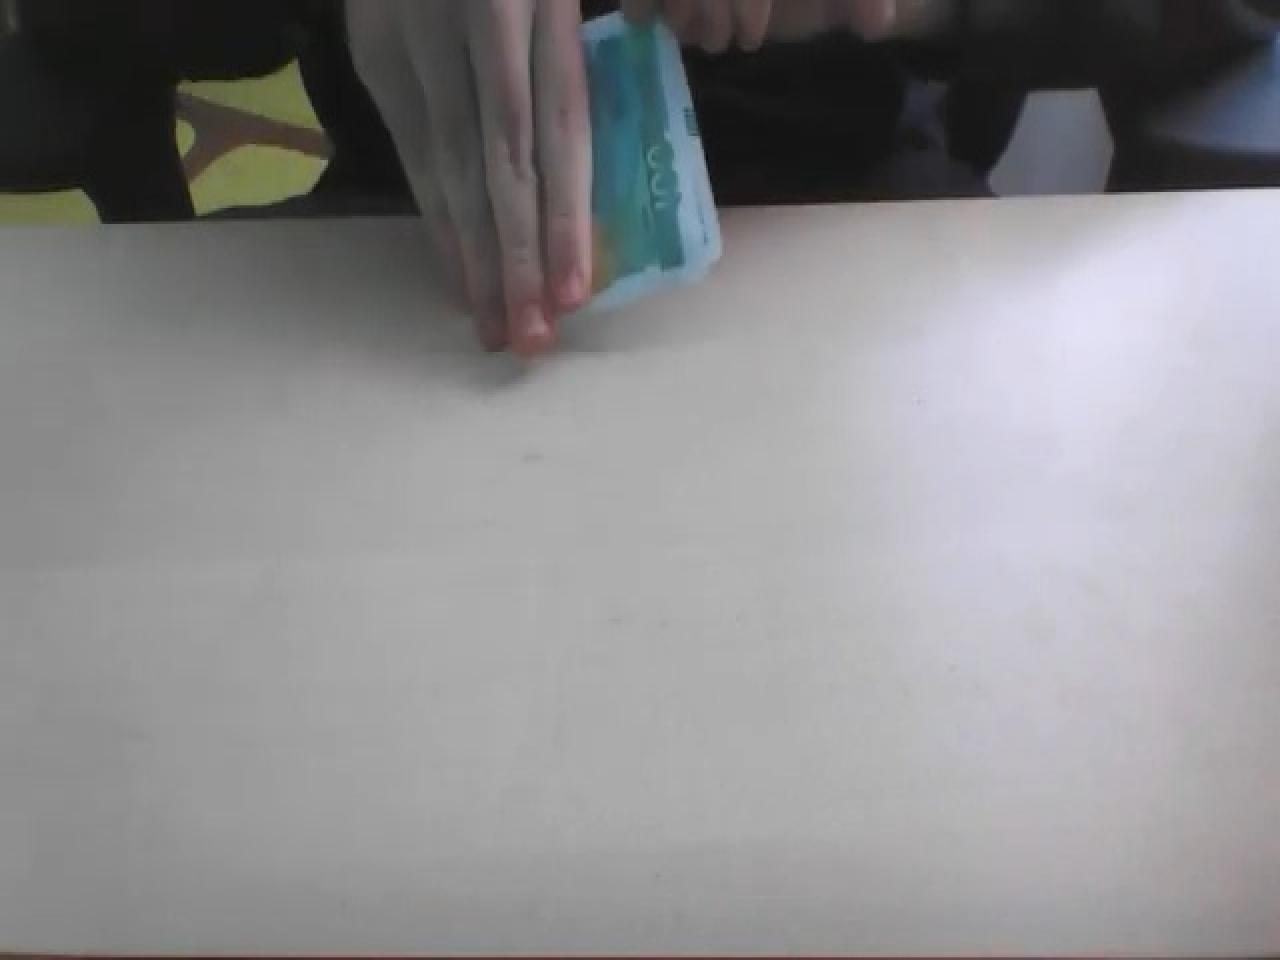100leva: (572, 13, 724, 315)
